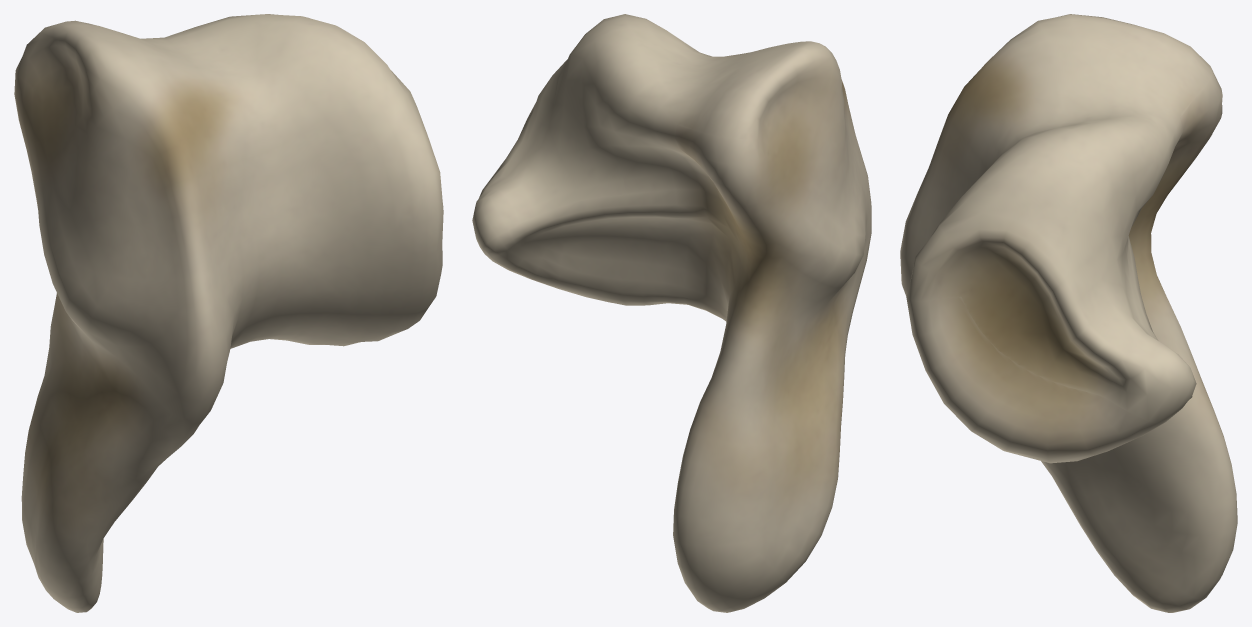
Rendered from L talus.fbx.
The picture shows the model from 3 angles, left to right: view 1: azimuth 30°, elevation 25°; view 2: azimuth 150°, elevation 25°; view 3: azimuth 270°, elevation 25°; orthographic projection. The views are drawn at different scales.
Visible parts, largest first — view 1: L talus; view 2: L talus; view 3: L talus.
Boxes of the visible parts, bbox=[...] form: L talus: bbox=[14, 14, 443, 612]; L talus: bbox=[472, 14, 871, 612]; L talus: bbox=[900, 14, 1237, 612].
Size of the model in its own units: 4.99 by 7.79 by 4.1.
